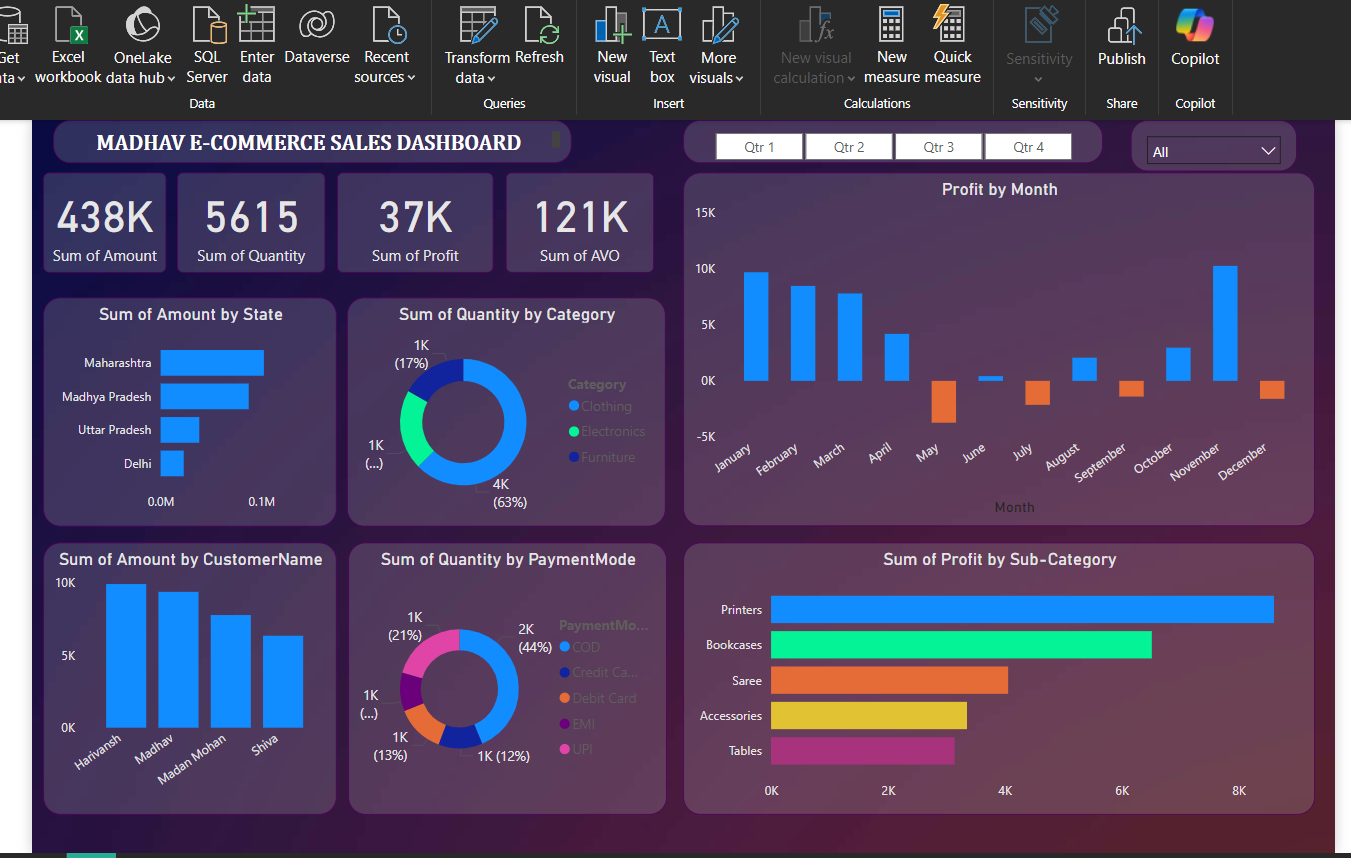

This screenshot's page, from the dashboard's own definition file:
{"tool":"powerbi","page":{"name":"Page 1","canvas":[1280,720],"ordinal":0},"visuals":[{"type":"textbox","box":[20.6,0,509.1,42.5],"z":0},{"type":"columnChart","title":"Profit by Month","fields":{"Category":["Orders.Order Date.Variation.Date Hierarchy.Month"],"Y":["Details.Profit"]},"box":[639.5,52.1,620.2,347.2],"z":1000},{"type":"barChart","fields":{"Category":["Details.Sub-Category"],"Y":["Details.Profit"]},"box":[639.5,414.4,620.2,267.6],"z":2000},{"type":"donutChart","fields":{"Category":["Details.Category"],"Y":["Details.Quantity"]},"box":[308.7,174.3,312.9,225],"z":3000},{"type":"donutChart","fields":{"Y":["Details.Quantity"],"Series":["Details.PaymentMode"]},"box":[310.1,414.4,312.9,267.6],"z":4000},{"type":"card","fields":{"Values":["Details.Amount"]},"box":[11,52.1,120.8,98.8],"z":5000},{"type":"card","fields":{"Values":["Details.Quantity"]},"box":[142.7,52.1,145.5,98.8],"z":6000},{"type":"card","fields":{"Values":["Details.Profit"]},"box":[299.1,52.1,153.7,98.8],"z":7000},{"type":"card","fields":{"Values":["Details.AVO"]},"box":[465.2,52.1,145.5,98.8],"z":8000},{"type":"barChart","fields":{"Category":["Orders.State"],"Y":["Details.Amount"]},"box":[11,174.3,288.2,225],"z":9000},{"type":"columnChart","fields":{"Category":["Orders.CustomerName"],"Y":["Details.Amount"]},"box":[11,414.4,288.2,267.6],"z":10000},{"type":"slicer","fields":{"Values":["Orders.Order Date.Variation.Date Hierarchy.Quarter"]},"box":[639.5,0,411.7,42.5],"z":11000},{"type":"slicer","fields":{"Values":["Orders.State"]},"box":[1078.6,0,163.3,50.8],"z":12000}]}

Visuals, with their boxes in screenshot pixels (x1, y1, x2, y2):
textbox: left=39, top=106, right=569, bottom=150
"Profit by Month" columnChart: left=683, top=160, right=1329, bottom=521
barChart - Details.Sub-Category x Details.Profit: left=683, top=537, right=1329, bottom=815
donutChart - Details.Category x Details.Quantity: left=339, top=287, right=665, bottom=521
donutChart - Details.Quantity x Details.PaymentMode: left=340, top=537, right=666, bottom=815
card - Details.Amount: left=29, top=160, right=155, bottom=263
card - Details.Quantity: left=166, top=160, right=318, bottom=263
card - Details.Profit: left=329, top=160, right=489, bottom=263
card - Details.AVO: left=502, top=160, right=653, bottom=263
barChart - Orders.State x Details.Amount: left=29, top=287, right=329, bottom=521
columnChart - Orders.CustomerName x Details.Amount: left=29, top=537, right=329, bottom=815
slicer - Orders.Order Date.Variation.Date Hierarchy.Quarter: left=683, top=106, right=1112, bottom=150
slicer - Orders.State: left=1140, top=106, right=1310, bottom=158
